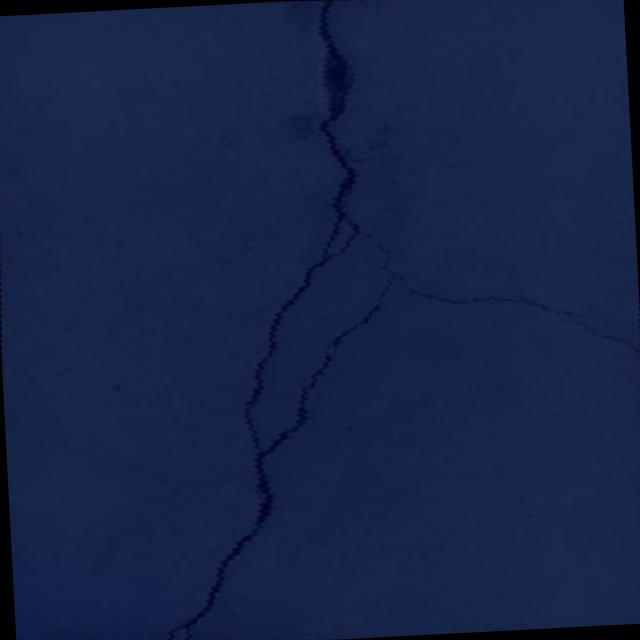crack: (133, 0, 616, 640), (557, 313, 640, 356)
